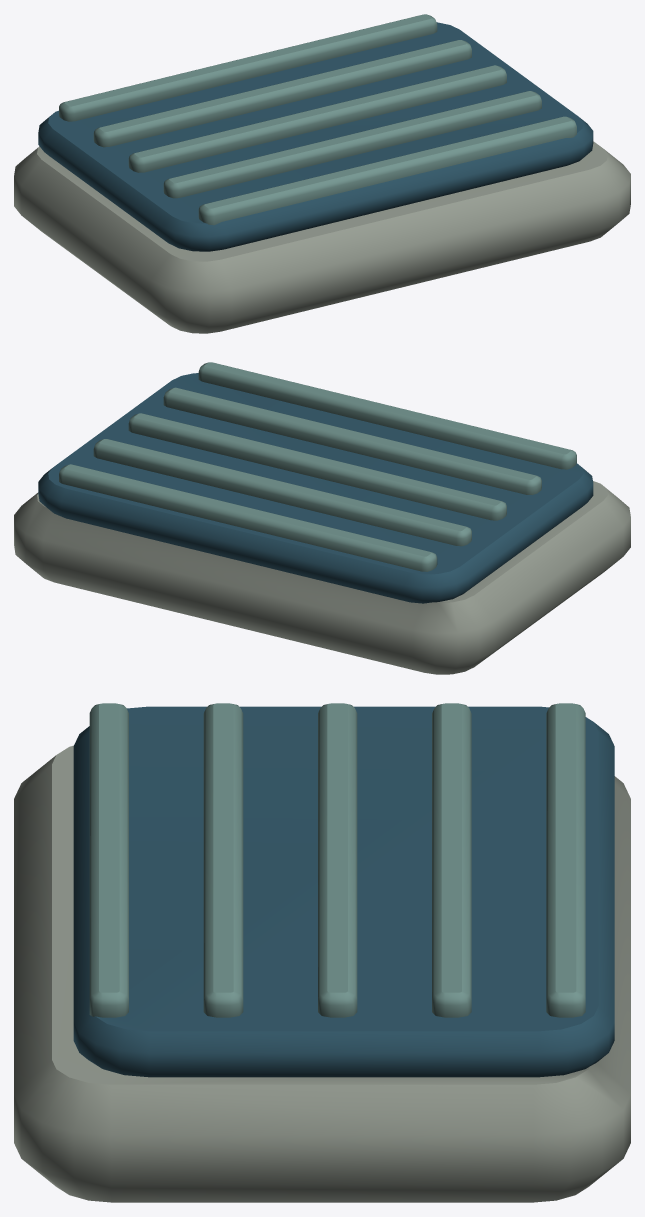
Rendered from upgrade_solar.glb.
3 renders of one model, top to bottom at view 1: azimuth 30°, elevation 25°; view 2: azimuth 150°, elevation 25°; view 3: azimuth 270°, elevation 25°, orthographic. The views are drawn at different scales.
Visible parts, largest first — view 1: UpgradeSolar; view 2: UpgradeSolar; view 3: UpgradeSolar.
Boxes of the visible parts, x1,y1,x2,y2 form: UpgradeSolar: (14,14,630,333); UpgradeSolar: (14,362,630,674); UpgradeSolar: (14,703,630,1202).
Size of the model in its own units: 1.65 by 0.3705 by 1.14.
